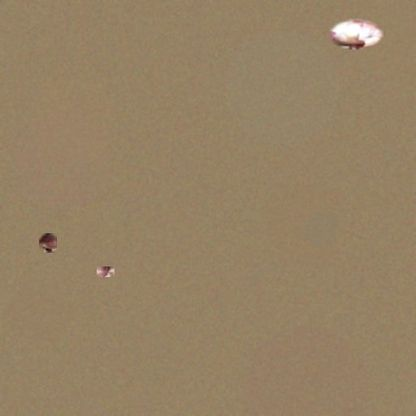damaged: (328, 19, 384, 50)
sprouted: (39, 233, 57, 253), (97, 266, 115, 277)
